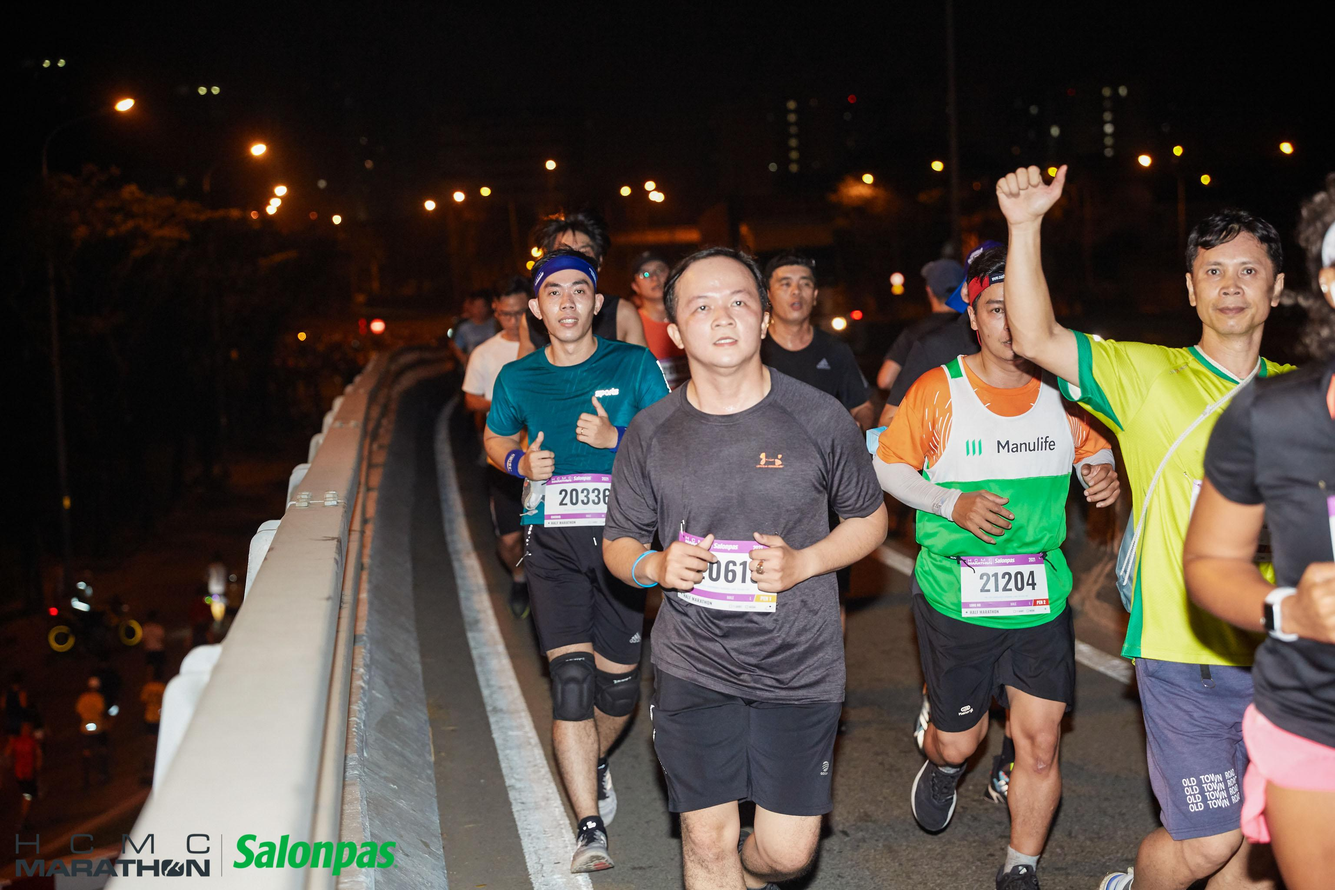bib: (686, 535, 778, 613), (956, 556, 1052, 618), (543, 473, 611, 529)
